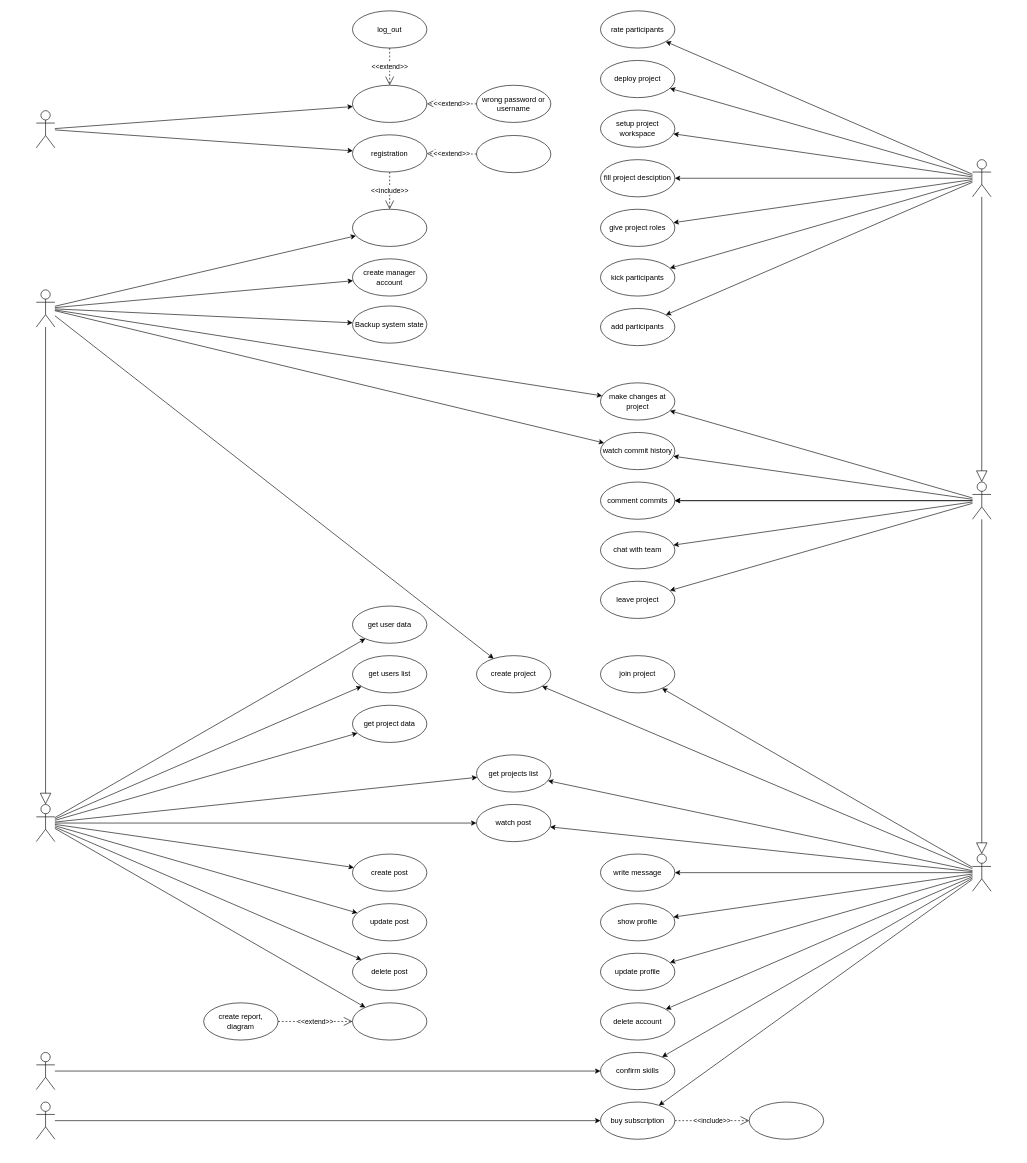
Some shapes in this 1027 by 1163 pixel diagram are drawn without their labels. Each missing label, with the box of its shape:
authorization: (352, 85, 427, 122)
create user account: (352, 209, 427, 246)
get system statistics: (352, 1002, 427, 1040)
invalid_data: (476, 135, 551, 173)
Online Bank System: (36, 1101, 55, 1139)
pay data: (749, 1101, 824, 1139)
Project Administrator: (972, 159, 991, 197)
Project participant: (972, 481, 991, 519)
Skills Testing System: (36, 1052, 55, 1090)
System Administrator: (36, 289, 55, 327)
System Manager: (36, 804, 55, 842)
UnAuthorized: (36, 110, 55, 148)
User: (972, 853, 991, 891)
